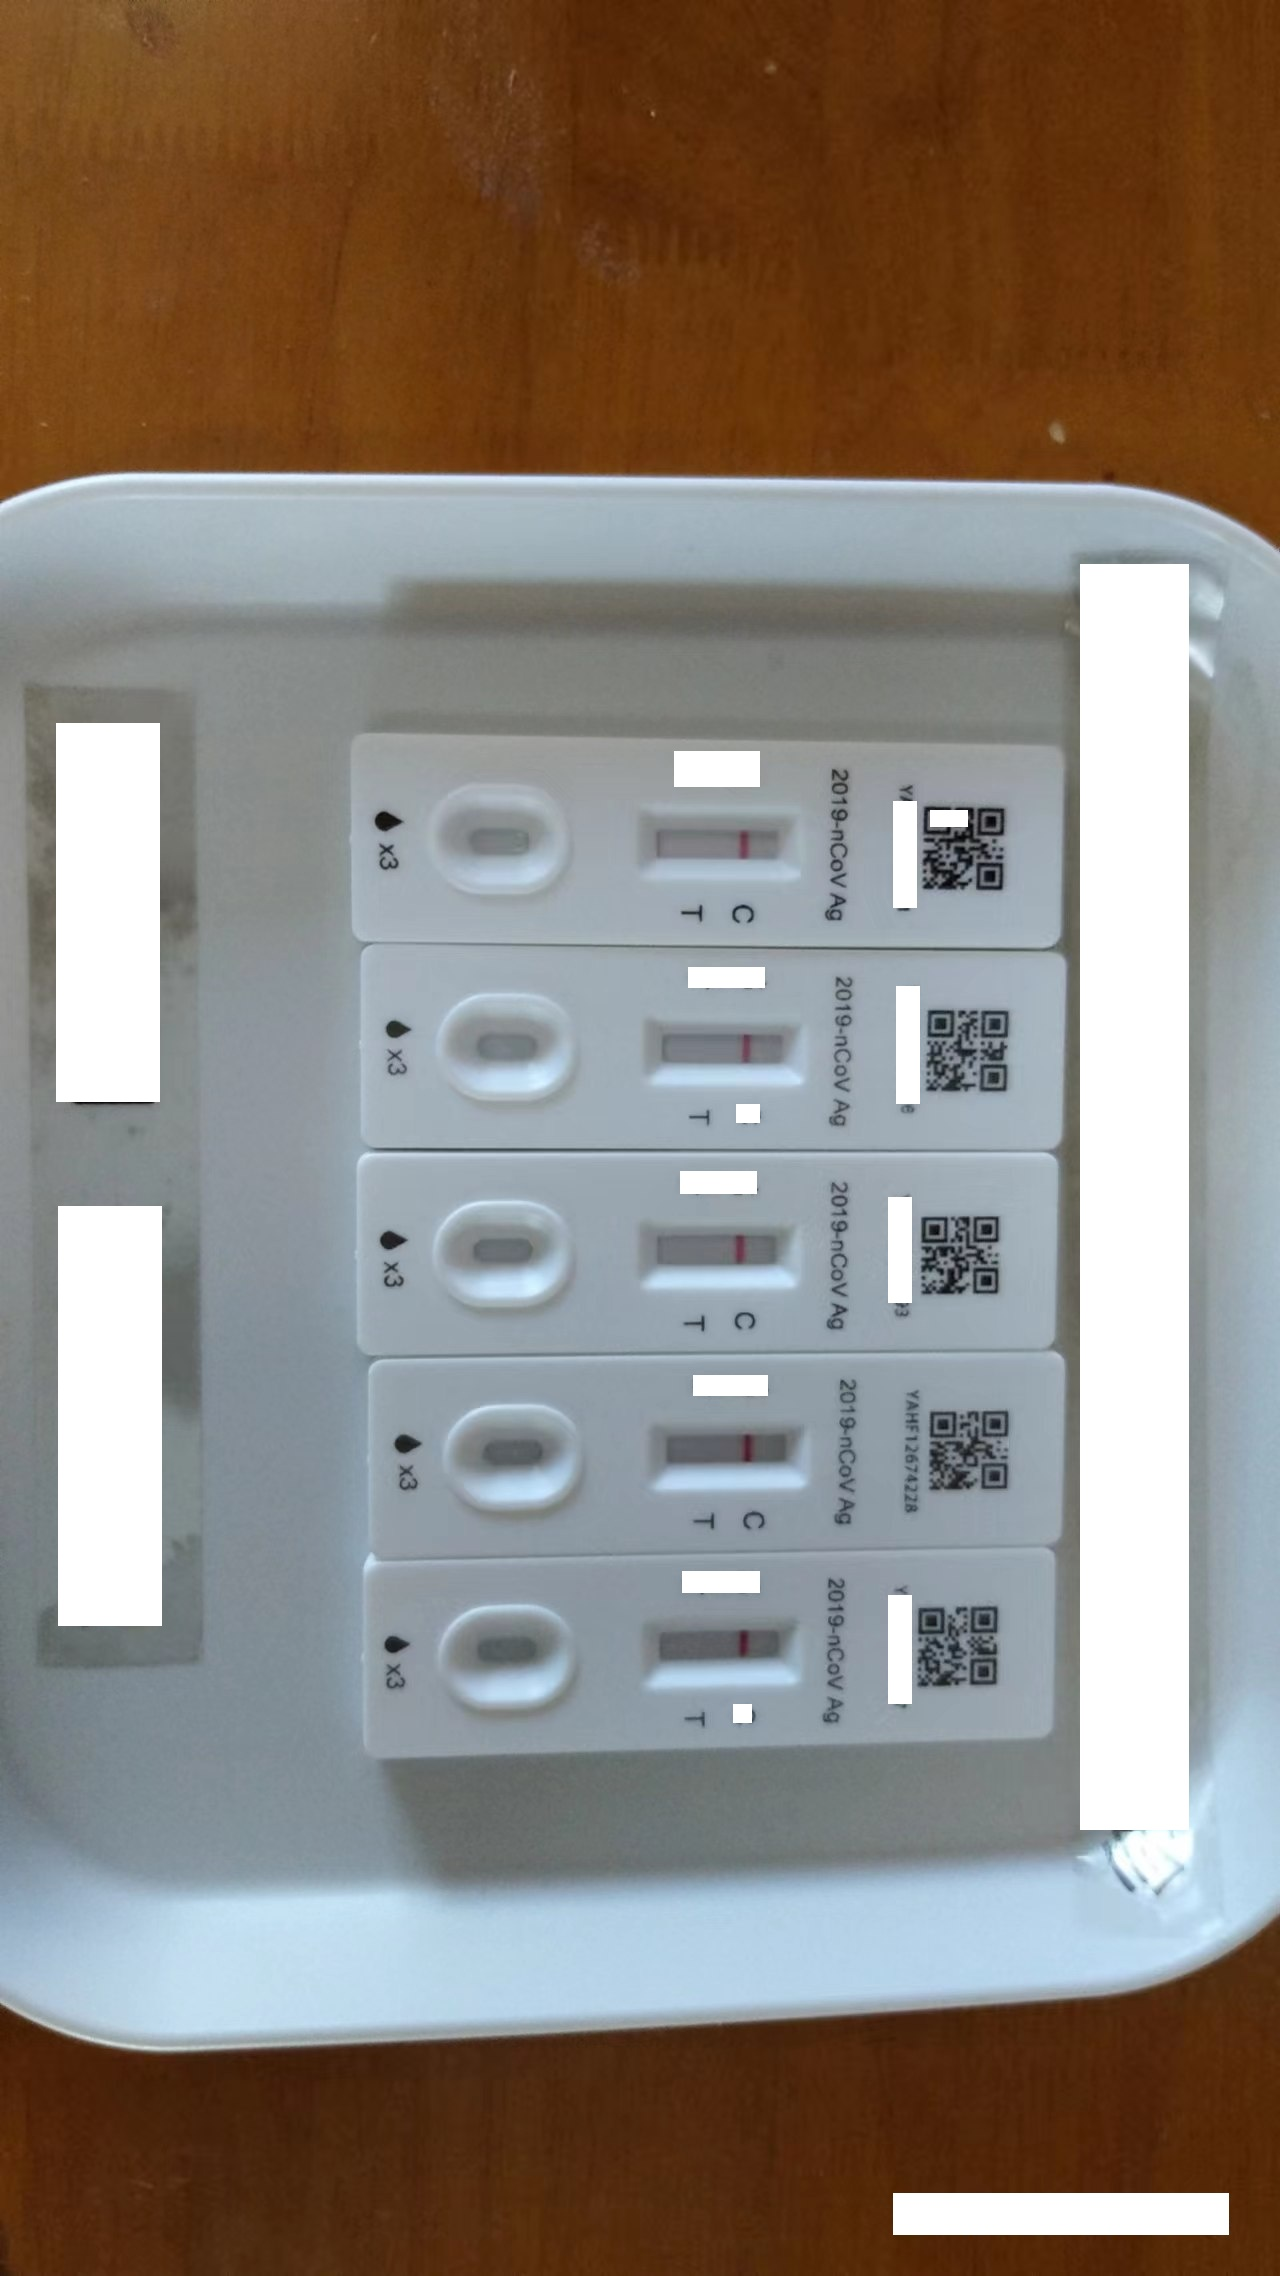negative: (641, 1219, 803, 1290), (642, 807, 803, 877), (645, 1015, 805, 1082), (645, 1616, 803, 1684)
